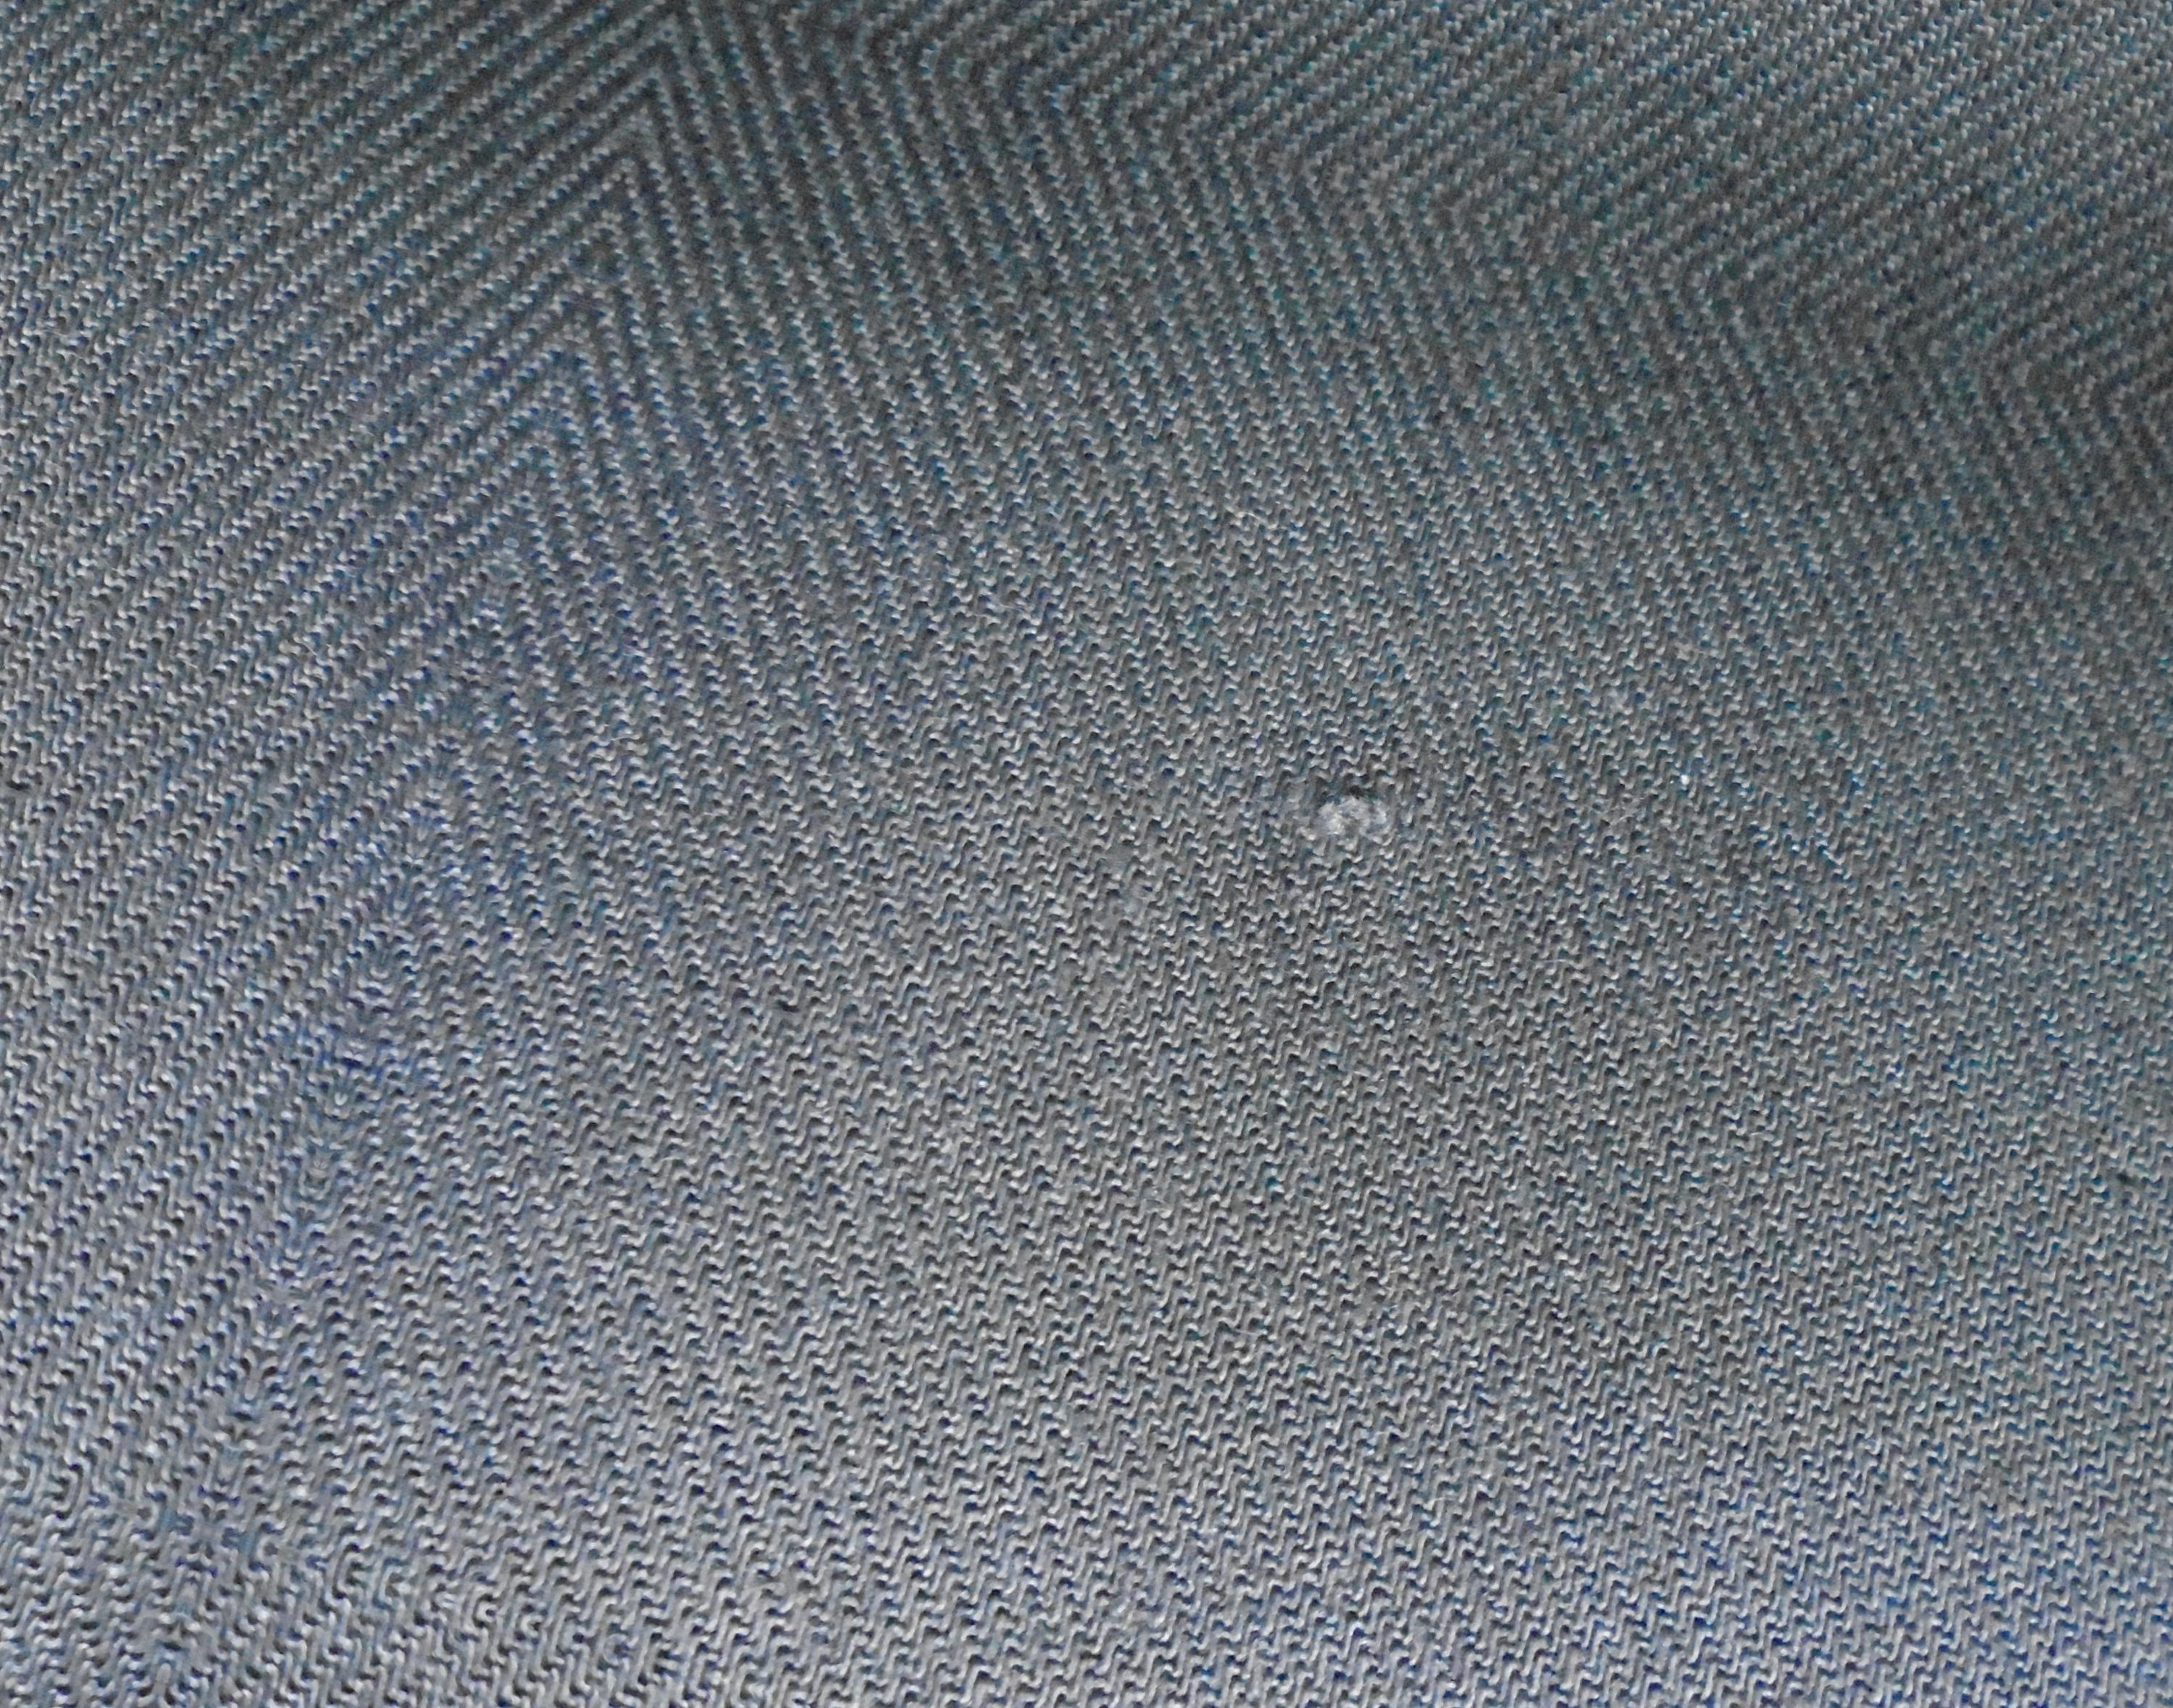knot: (1268, 755, 1418, 888)
